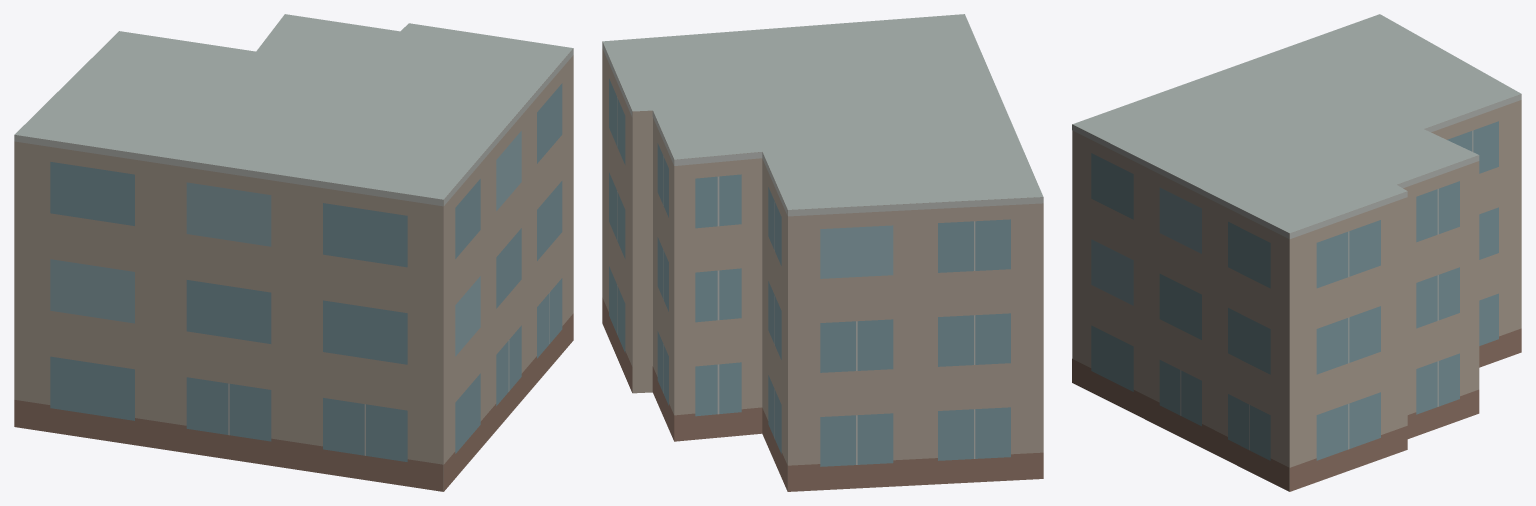
Rendered from survey-upis-32950726.glb.
3 renders of one model, left to right at view 1: azimuth 30°, elevation 25°; view 2: azimuth 150°, elevation 25°; view 3: azimuth 270°, elevation 25°, orthographic. The views are drawn at different scales.
Visible parts, largest first — view 1: survey-upis-32950726.tmp; view 2: survey-upis-32950726.tmp; view 3: survey-upis-32950726.tmp.
Part boxes in pixels (x1,y1,x2,y2): survey-upis-32950726.tmp: [14, 14, 573, 491]; survey-upis-32950726.tmp: [602, 14, 1043, 491]; survey-upis-32950726.tmp: [1072, 14, 1521, 491].
Bounding box in the file's own units: 19.39 × 10.65 × 16.79.
